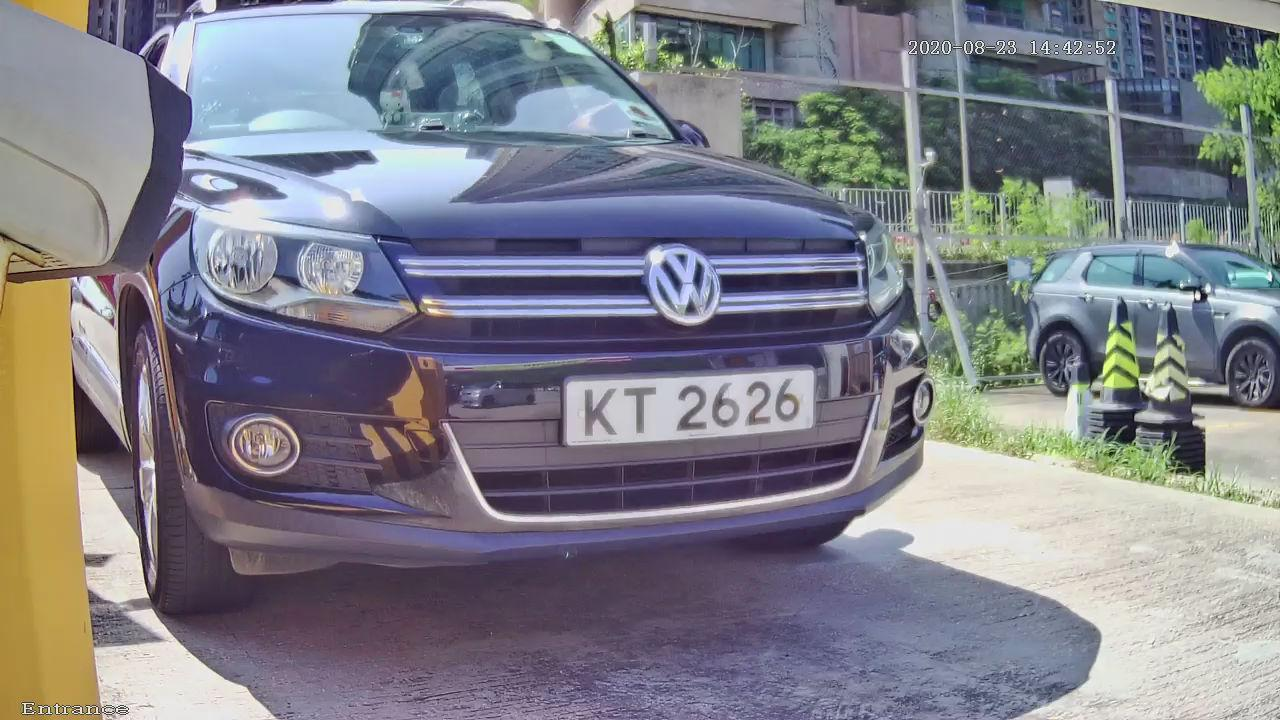Car: (35, 10, 995, 643)
License Plate: (513, 321, 868, 485)
